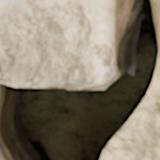brick: (0, 0, 131, 88)
crack: (0, 0, 158, 159)
